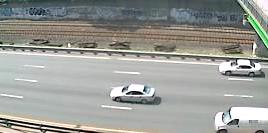car: (210, 103, 266, 133), (108, 82, 159, 106), (215, 57, 264, 80)
